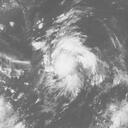cyclone: (45, 32, 93, 81)
